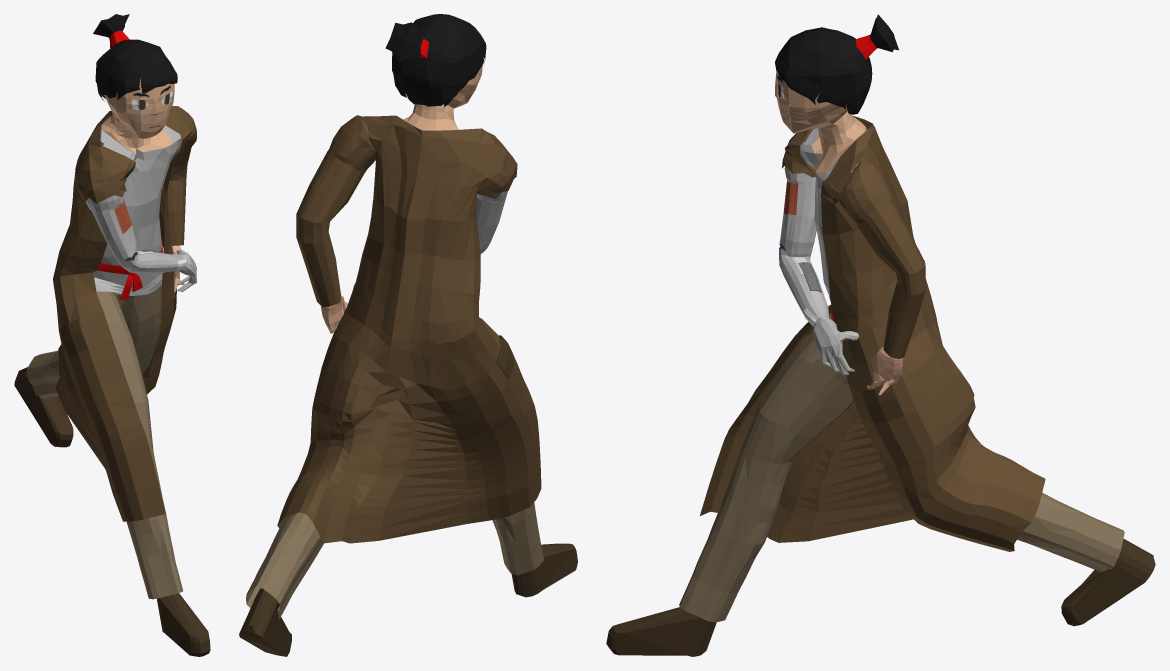
File: One_RF_000000.obj
The picture shows the model from 3 angles, left to right: view 1: azimuth 30°, elevation 25°; view 2: azimuth 150°, elevation 25°; view 3: azimuth 270°, elevation 25°; orthographic projection. The views are drawn at different scales.
Parts seen in each view (by area): view 1: Hair_Cube.004; view 2: Hair_Cube.004; view 3: Hair_Cube.004.
Part boxes in pixels (x1,y1,x2,y2): Hair_Cube.004: (14, 14, 210, 656); Hair_Cube.004: (239, 14, 577, 656); Hair_Cube.004: (606, 14, 1155, 656).
Size of the model in its own units: 1.09 by 3.76 by 2.89.
